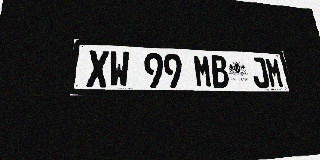9: (144, 52, 164, 87), (163, 53, 183, 88)
B: (210, 55, 230, 88)
J: (250, 57, 270, 88)
M: (193, 54, 213, 88), (264, 58, 285, 88)
W: (109, 51, 129, 87)
X: (86, 50, 109, 87)
